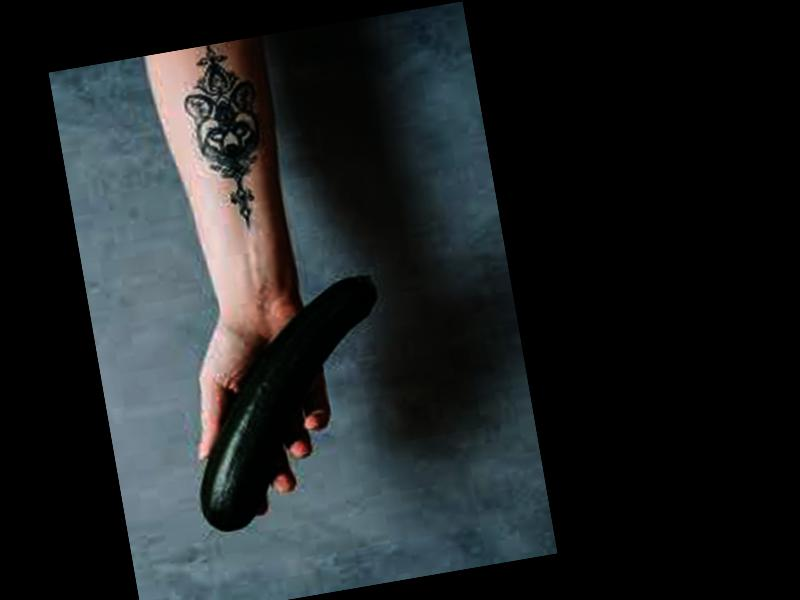Cucumber: (169, 275, 411, 535)
